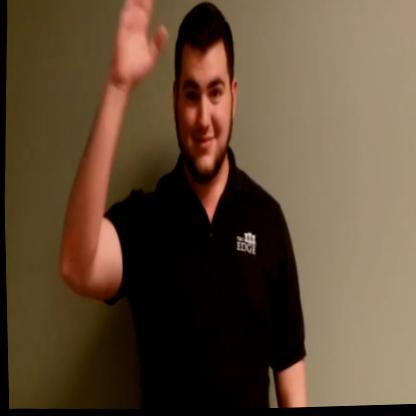Hello: (93, 0, 250, 238)
